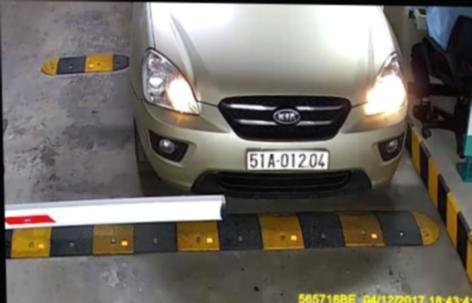License_Plate: (244, 148, 333, 174)
